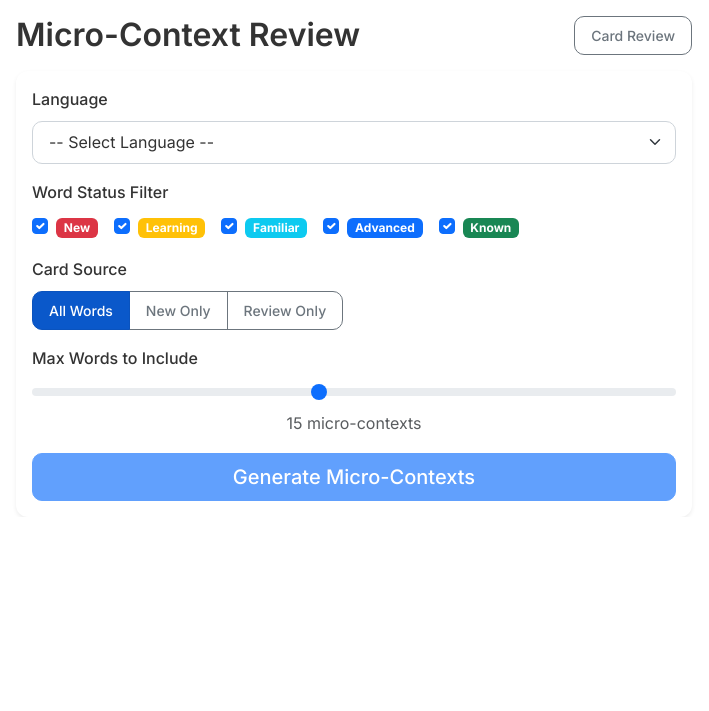
Test: SrsStoryReview (micro-contexts) › shows error and returns to setup when generation fails
Select "Spanish" in the dropdown labelled "Language" at (354,142), box [32,121,676,164]
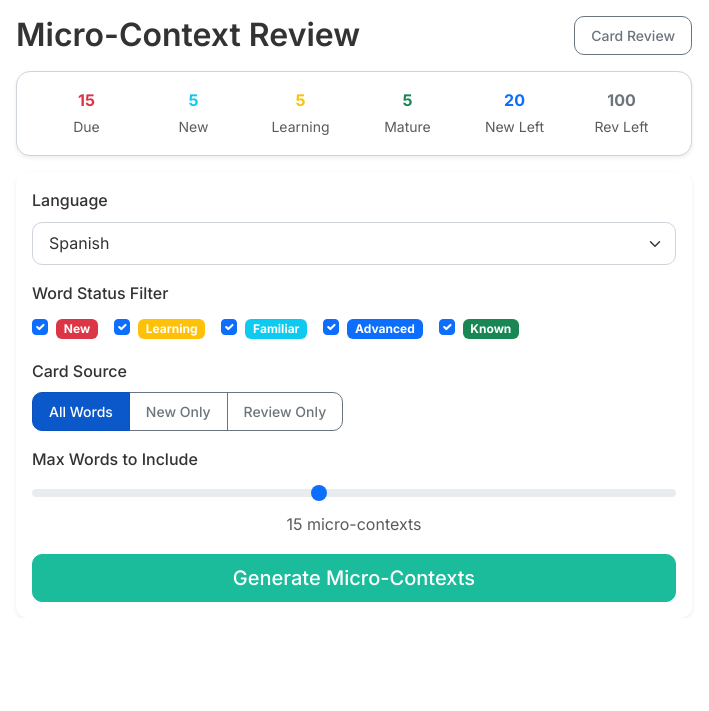
Expected: the button "Generate Micro-Contexts" is enabled
Click the button "Generate Micro-Contexts" at (354,578), box [32,554,676,602]
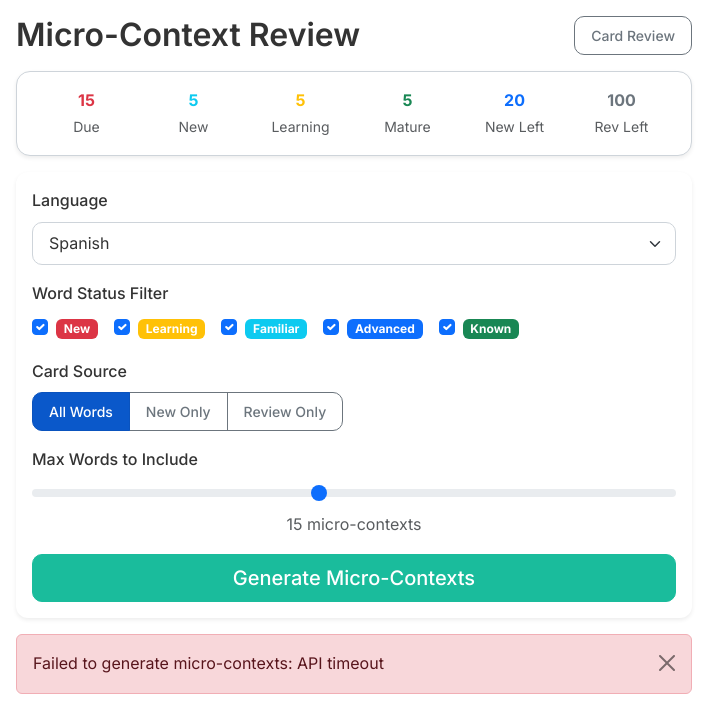
Expected: the text "Failed to generate micro-contexts: API timeout" is shown, [16,634,692,694]
